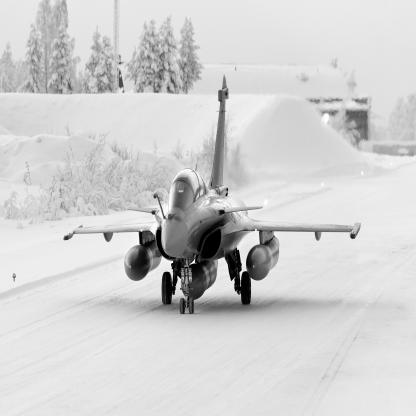Rafale: (65, 75, 363, 315)
